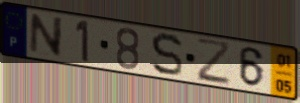1: (73, 19, 92, 65)
6: (237, 46, 266, 89)
8: (114, 26, 140, 71)
N: (28, 13, 65, 60)
S: (149, 32, 184, 79)
Z: (194, 37, 233, 87)
